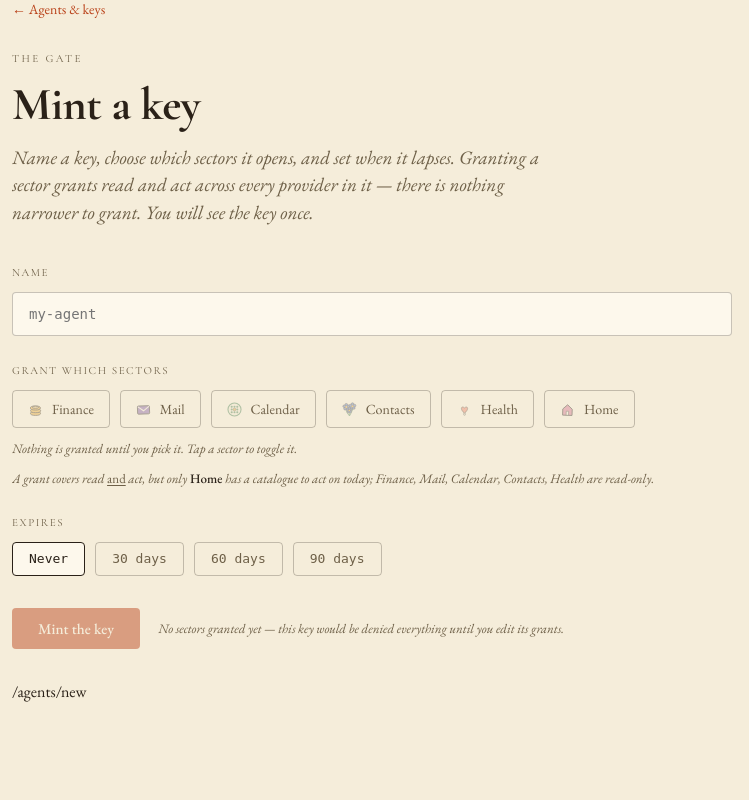
Scenario: MintKeyPage — reveal-once + default-deny › shows the minted key ONCE and it never reaches the URL (a secret must not hit history)
This screenshot has width=749, height=800.
Type "bot" into the field labelled "Name" at (372, 314), box [12,292,732,336]
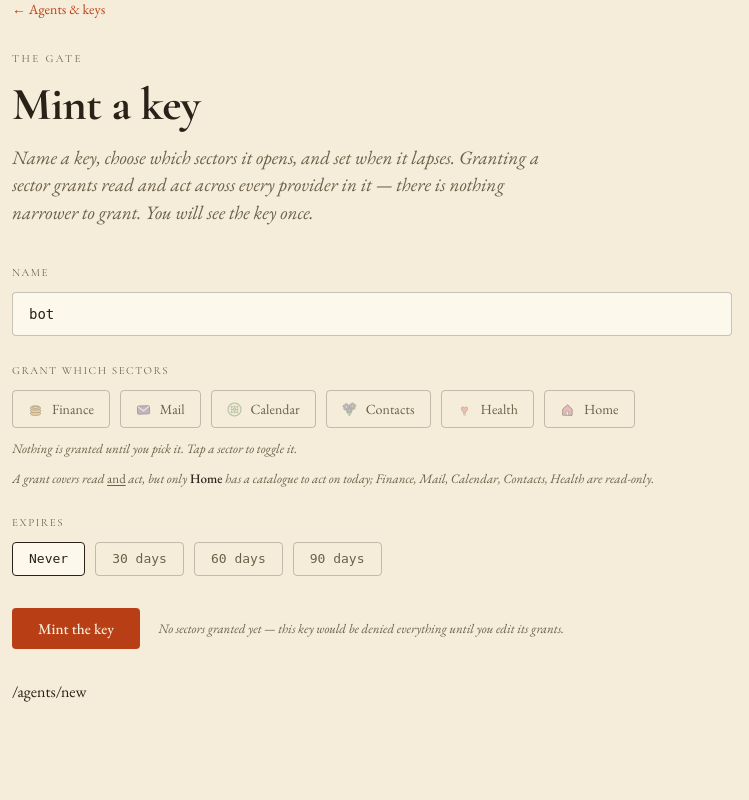
Click the button "Home" at (589, 409), box [544,390,634,428]
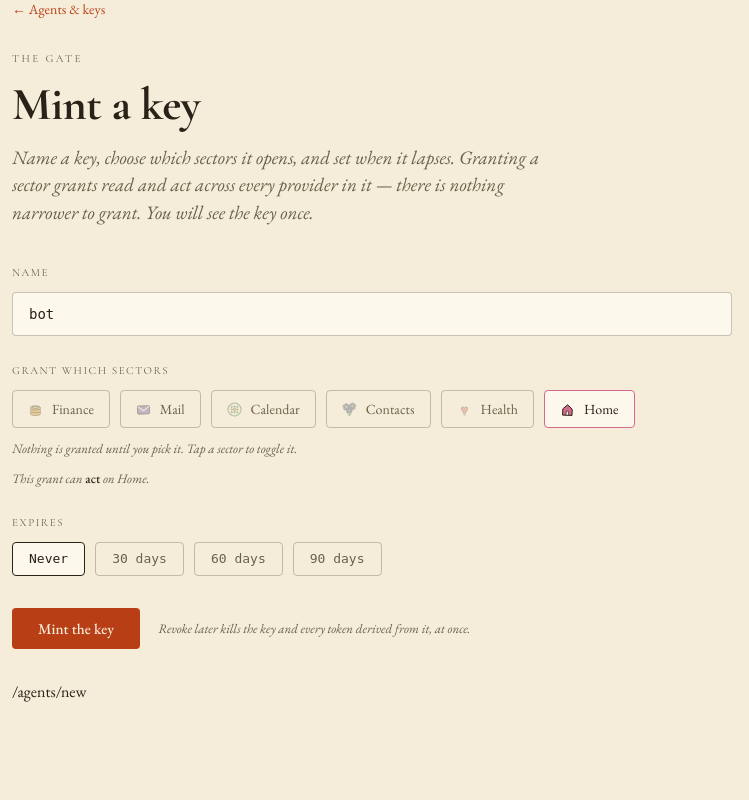
Click the button "Mint the key" at (76, 629), box [12,608,140,649]
(page scrolled)
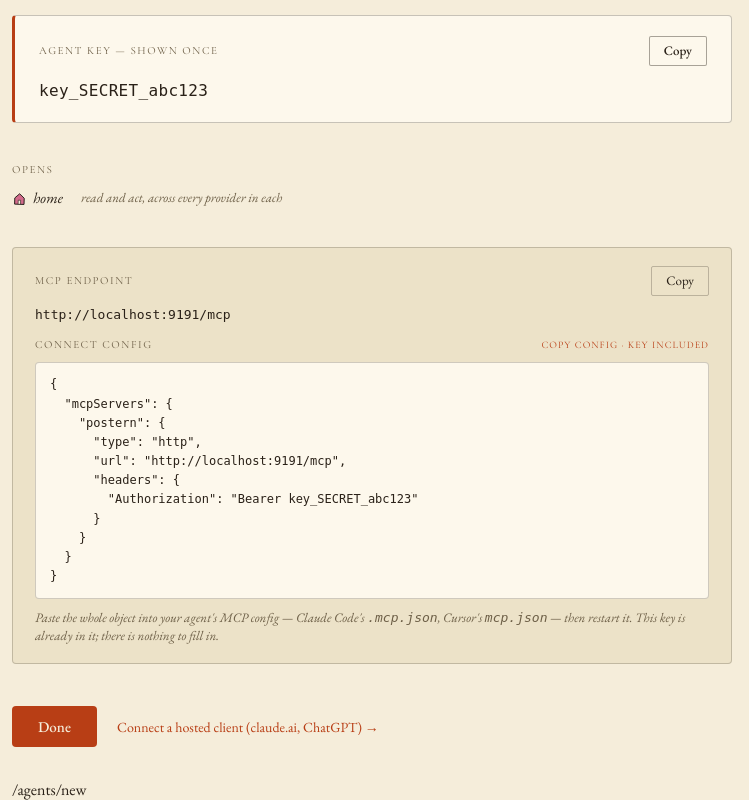
Expected: the text with test id "loc" reads "/agents/new", [12,779,87,799]
Expected: the text "key_SECRET_abc123" is shown, [39,81,208,100]
